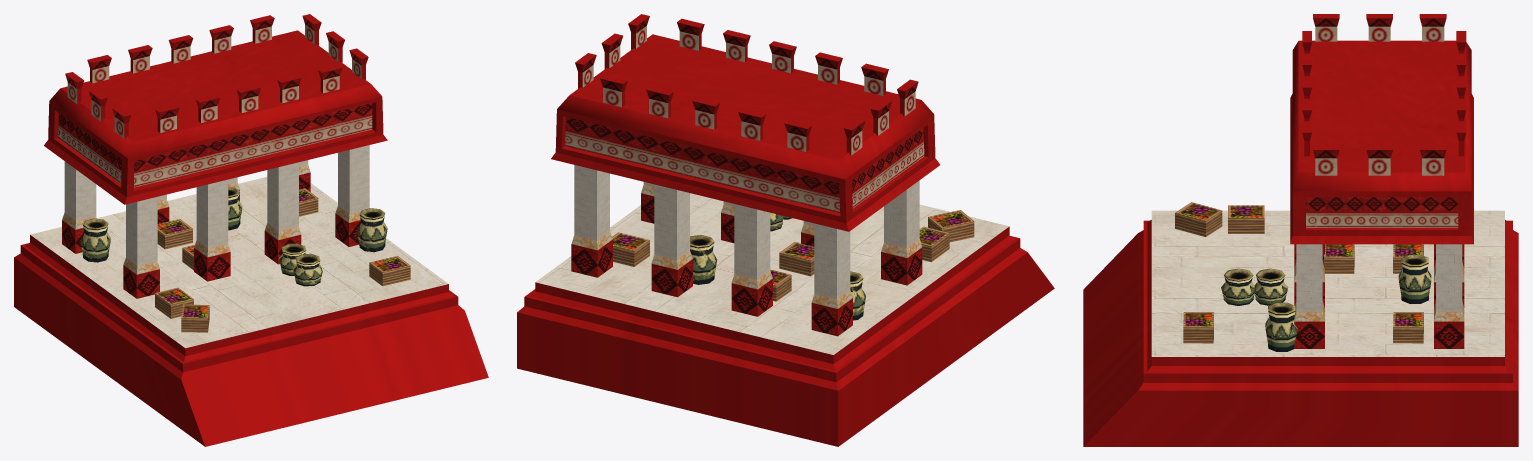
Rendered from dock.dae.
3 views of the same model, side by side, from view 1: azimuth 30°, elevation 25°; view 2: azimuth 150°, elevation 25°; view 3: azimuth 270°, elevation 25° (orthographic). The views are drawn at different scales.
Visible parts, largest first — view 1: DOCK; view 2: DOCK; view 3: DOCK.
Boxes of the visible parts, bbox=[...] form: DOCK: bbox=[14, 14, 488, 446]; DOCK: bbox=[517, 14, 1054, 446]; DOCK: bbox=[1083, 14, 1518, 446].
Size of the model in its own units: 19.1 by 22.3 by 16.2.
